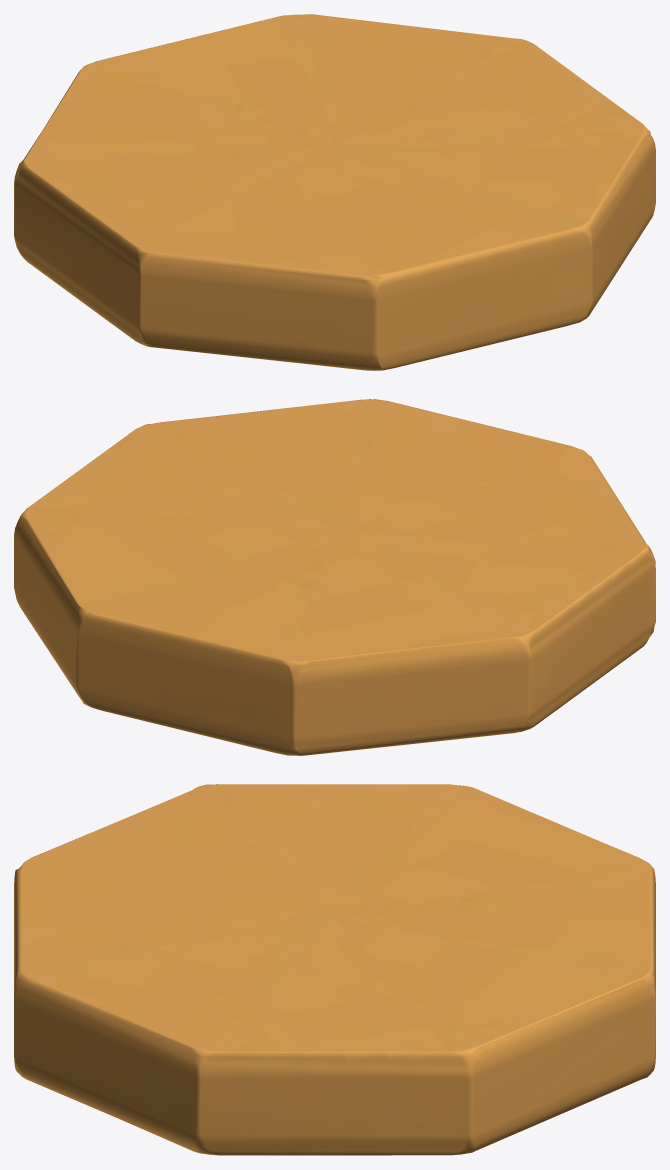
The model's file is floor-desert.glb.
3 renders of one model, top to bottom at view 1: azimuth 30°, elevation 25°; view 2: azimuth 150°, elevation 25°; view 3: azimuth 270°, elevation 25°, orthographic. The views are drawn at different scales.
Size of the model in its own units: 0.9565 by 0.1708 by 0.9478.
Materials: 1 (1 with a texture image).
